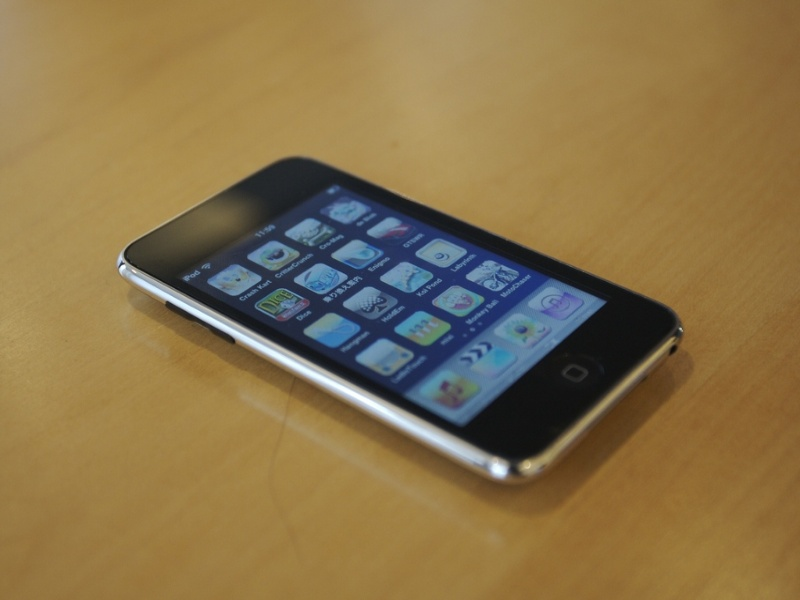cellphone: (98, 143, 695, 490)
